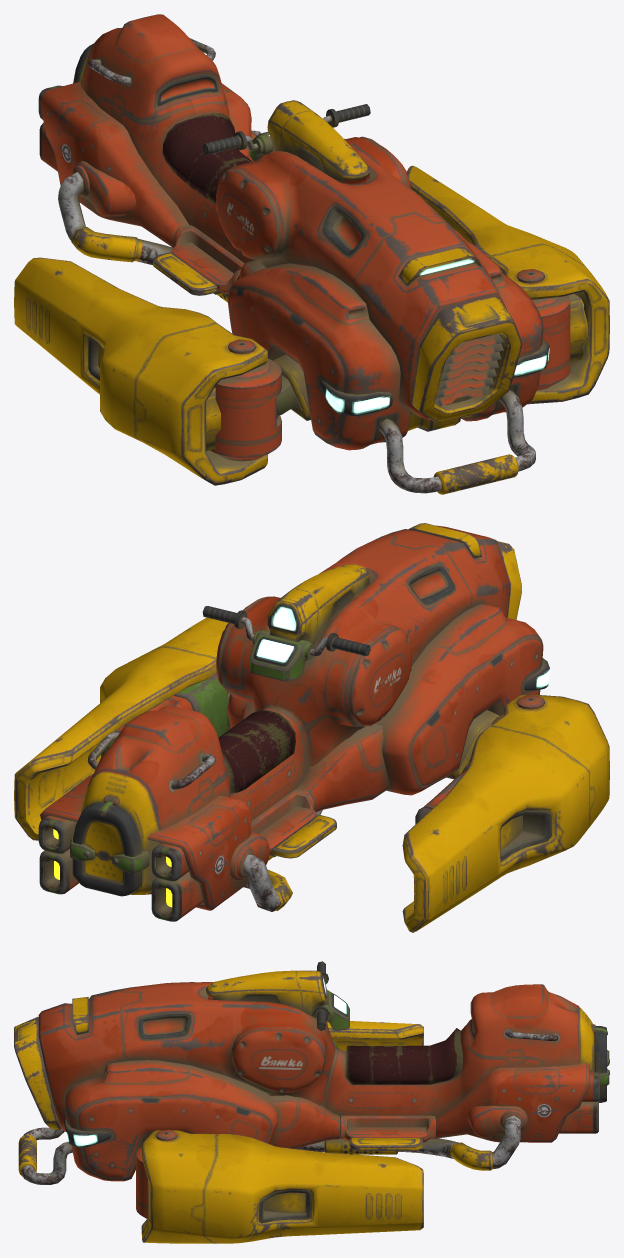
Rendered from hovercraft.glb.
3 renders of one model, top to bottom at view 1: azimuth 30°, elevation 25°; view 2: azimuth 150°, elevation 25°; view 3: azimuth 270°, elevation 25°, orthographic. The views are drawn at different scales.
Visible parts, largest first — view 1: obj_3_low, Empty, obj_4_low, obj_1_low, obj_6_low; view 2: obj_3_low, Empty, obj_4_low, obj_1_low, obj_6_low, wing_2_low; view 3: obj_3_low, Empty, obj_4_low, obj_1_low, obj_6_low.
Part boxes in pixels (x1,y1,x2,y2): obj_3_low: (80,14,543,450); Empty: (14,165,609,485); obj_4_low: (38,38,549,493); obj_1_low: (73,43,522,494); obj_6_low: (250,131,503,431); obj_3_low: (80,525,543,894); Empty: (14,617,609,932); obj_4_low: (38,606,549,921); obj_1_low: (72,523,521,896); obj_6_low: (100,630,315,815); wing_2_low: (101,673,229,757); obj_3_low: (38,982,594,1181); Empty: (136,1021,423,1243); obj_4_low: (22,961,609,1184); obj_1_low: (14,970,606,1176); obj_6_low: (321,990,607,1034).
Size of the model in its own units: 2.52 by 1.33 by 3.6.
1 material, 1 textured.
